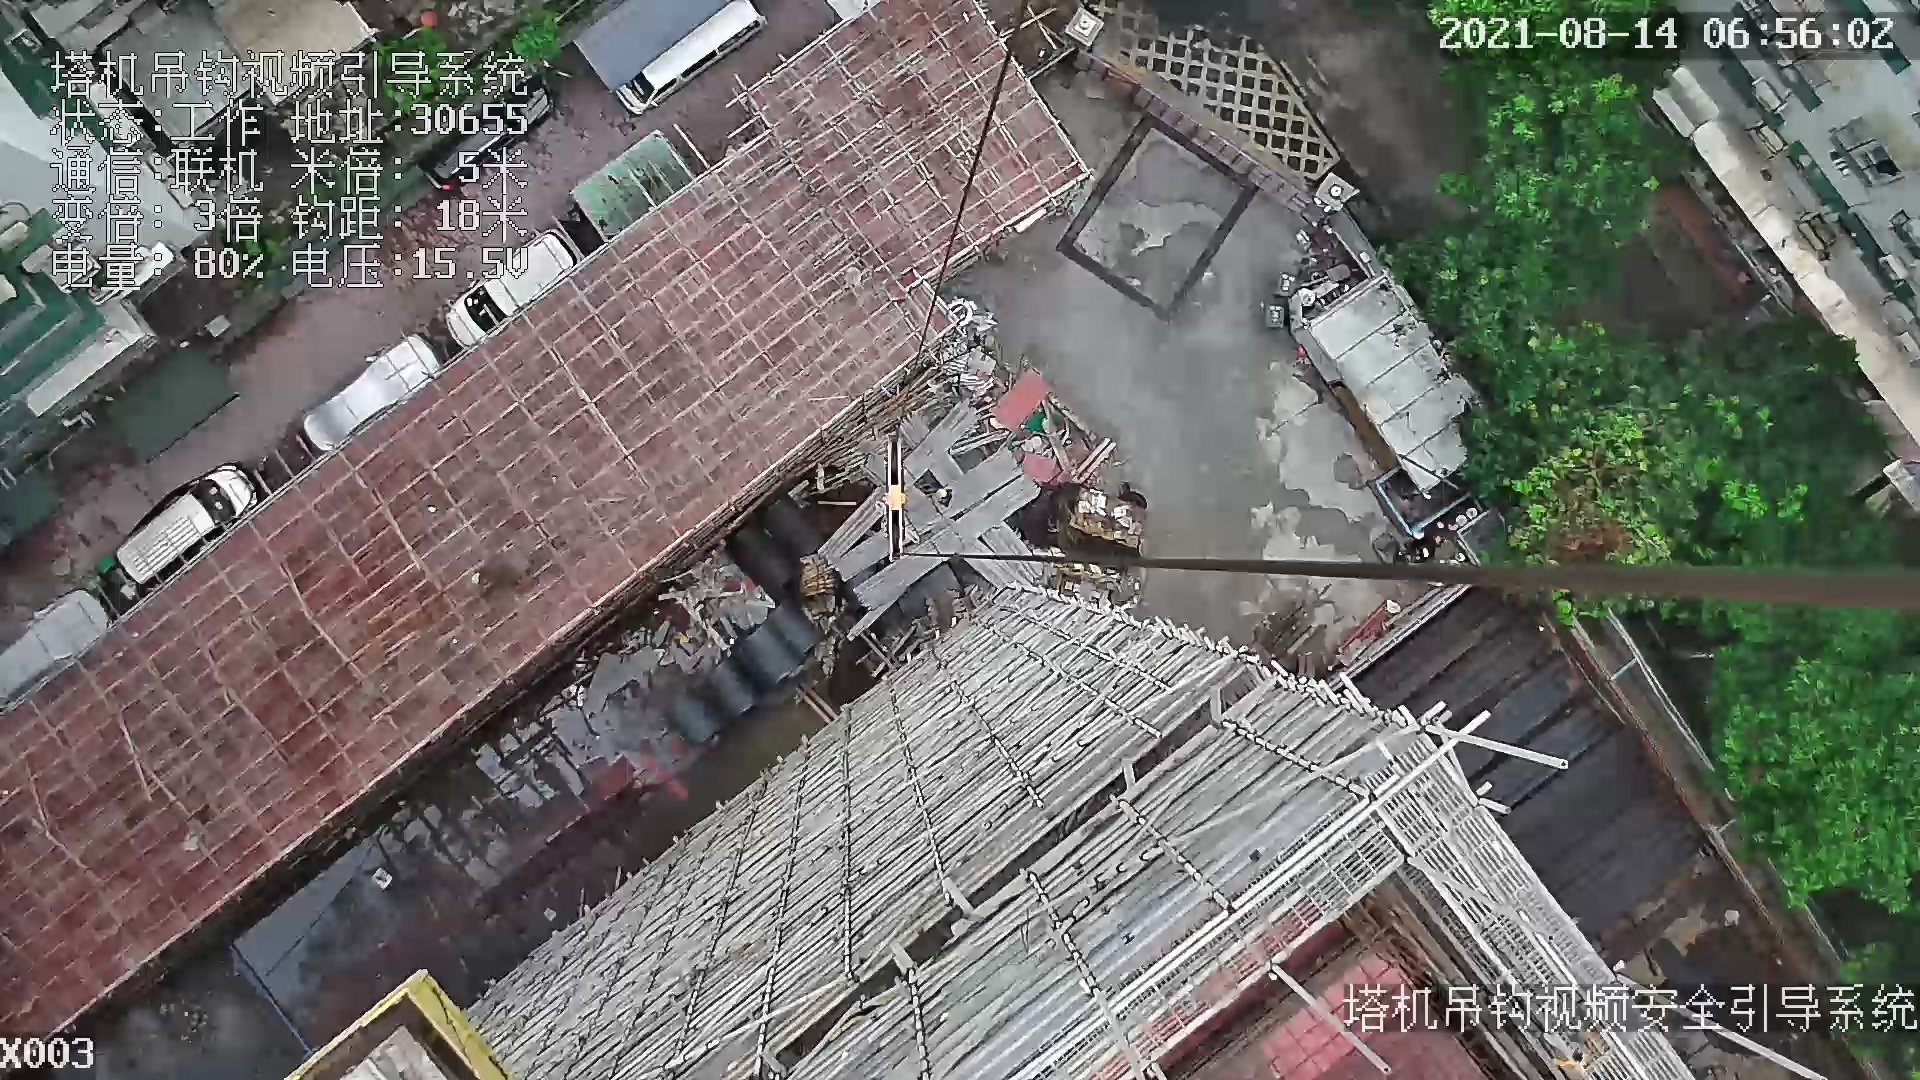helmet: (937, 489, 947, 498)
hook: (867, 419, 920, 560)
person: (936, 487, 955, 509)
rebar: (820, 400, 978, 564), (853, 475, 1041, 613), (834, 446, 1021, 583), (981, 521, 1045, 582), (962, 539, 1015, 588)
wood: (801, 562, 834, 596)
